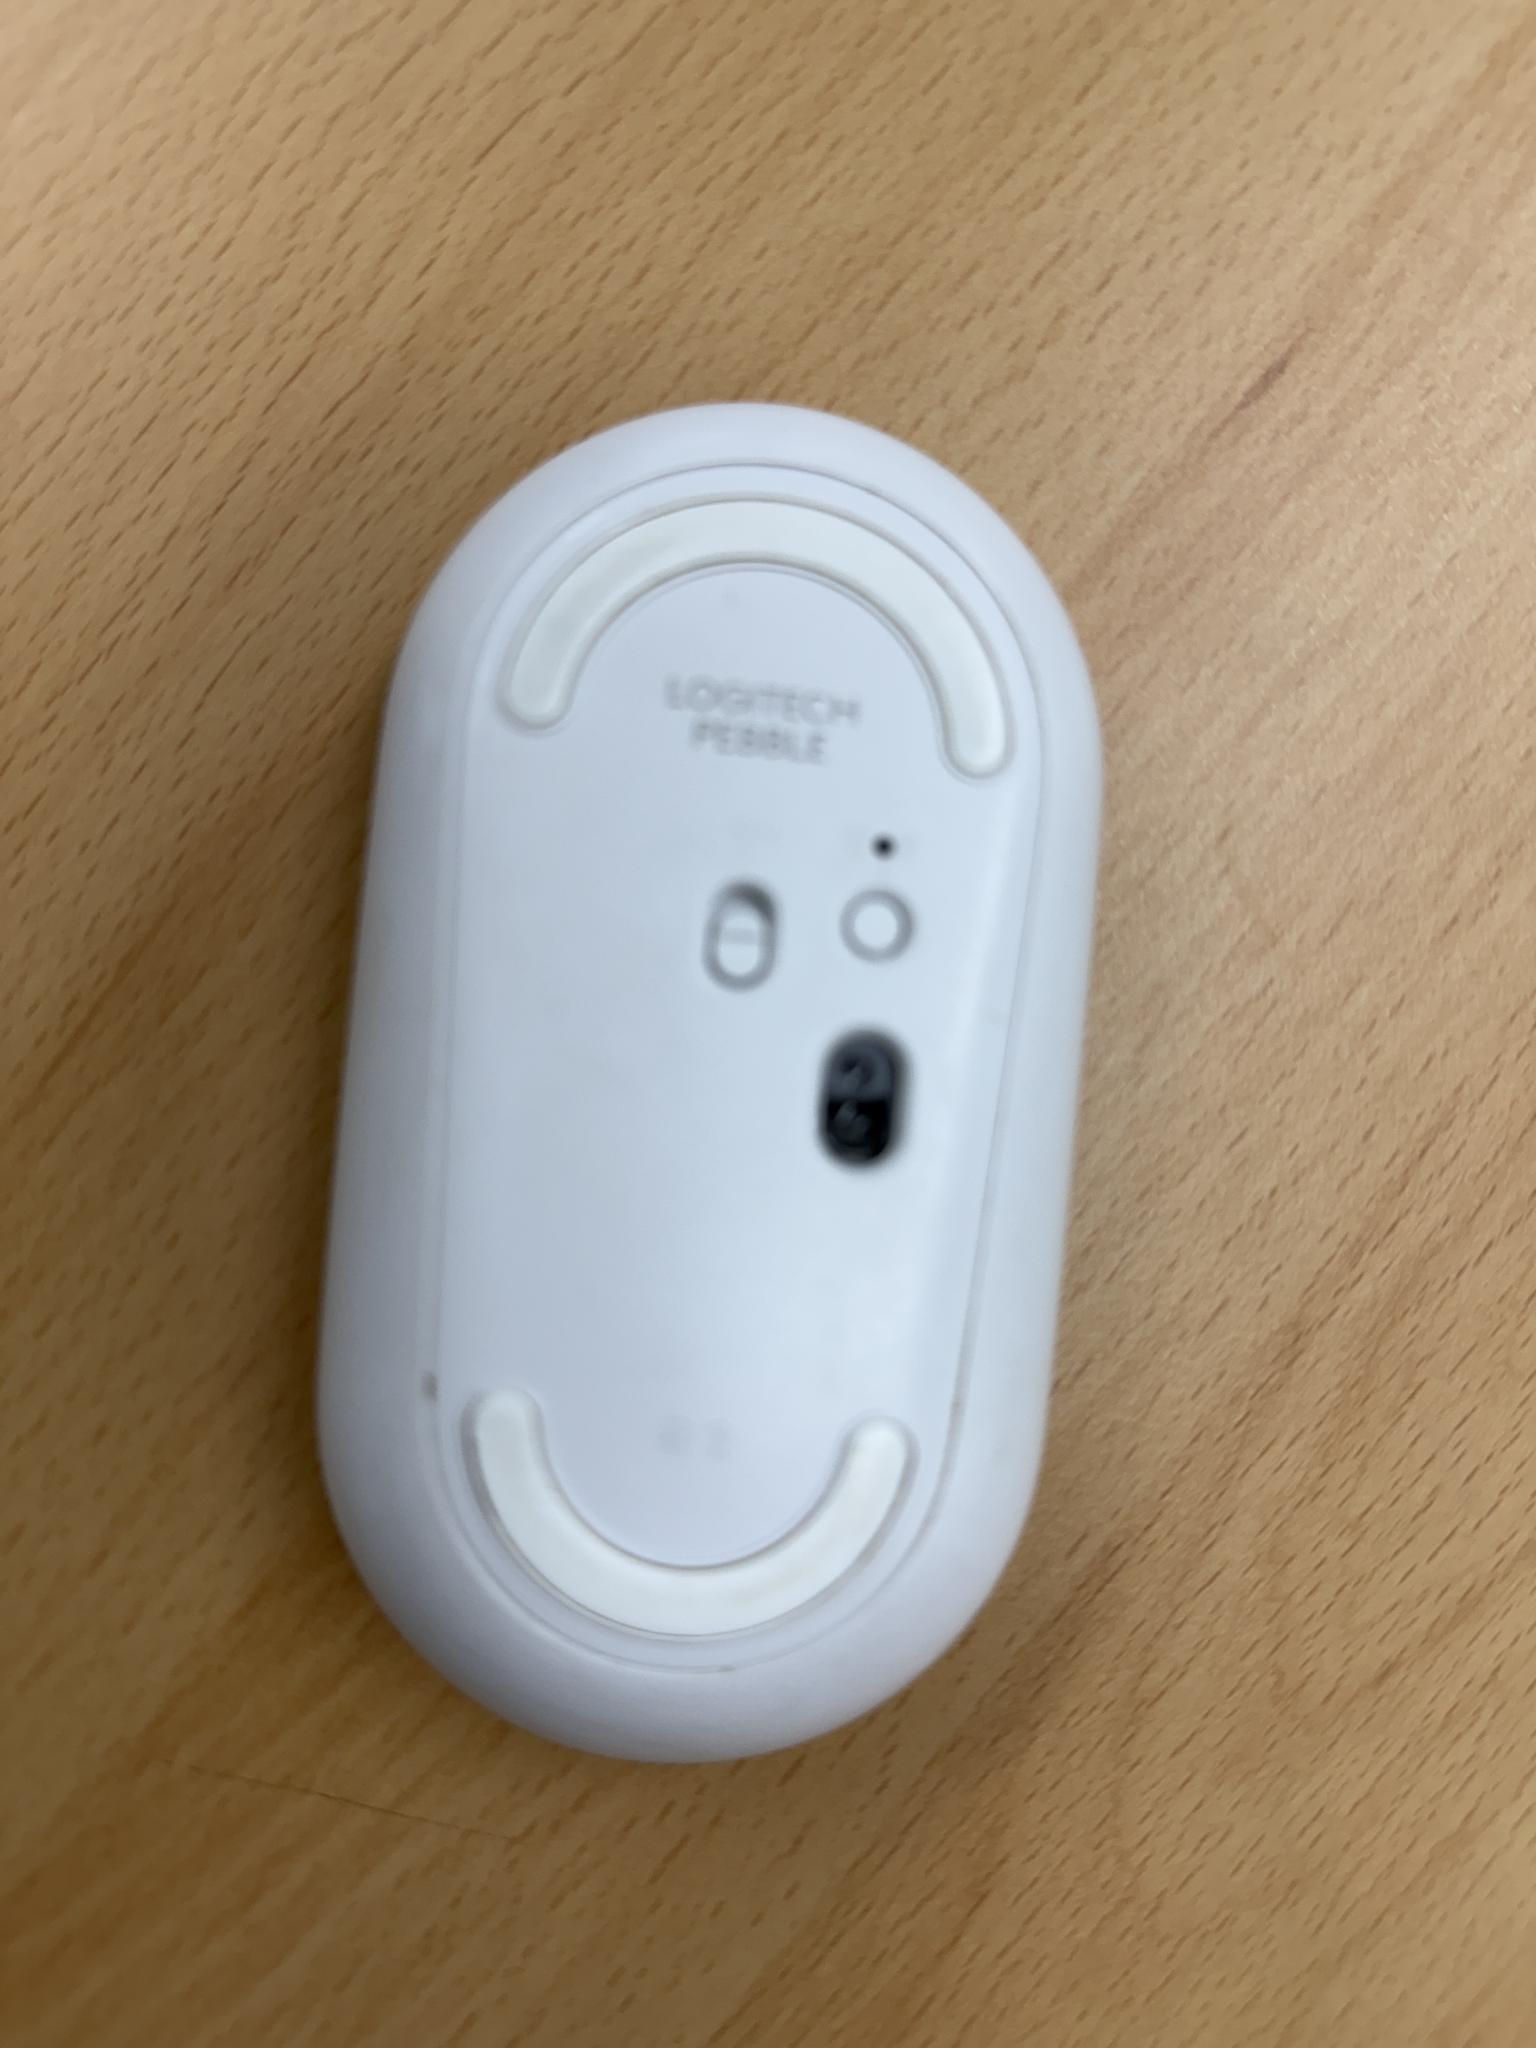back: (310, 385, 1110, 1780)
